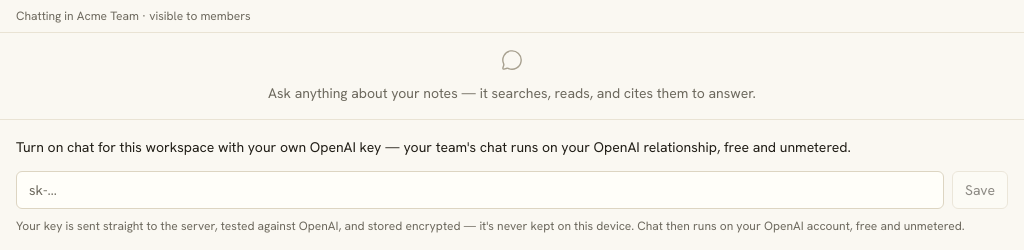
it: ChatPanel workspace activation (#76) › flips to the composer after the owner activates, without a reload
The width and height of the screenshot is (1024, 250).
Type "sk-abc" into the password field named "OpenAI API key" at (480, 190), box [16,171,944,209]
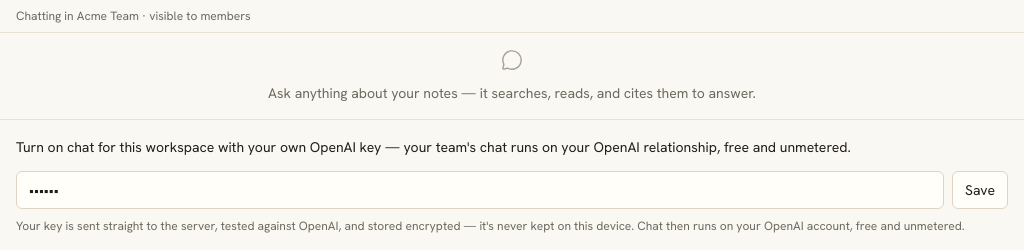
Click the button "Save" at (980, 190), box [952,171,1008,209]
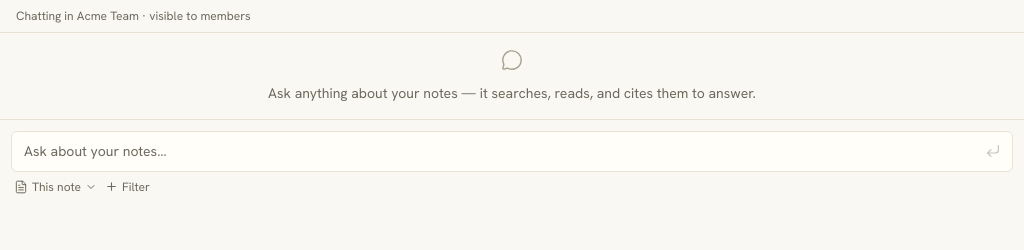
Expected: the text box with placeholder "Ask about your notes…" is shown, [11,131,1013,172]
